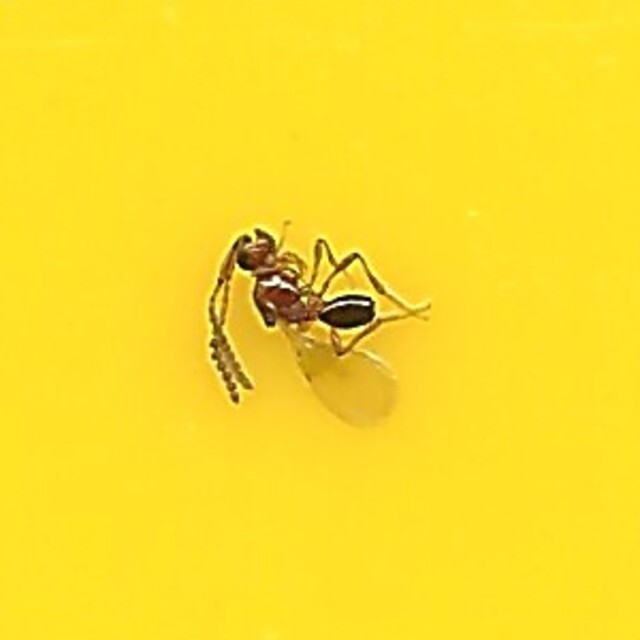Hymenoptera: (213, 220, 427, 420)
